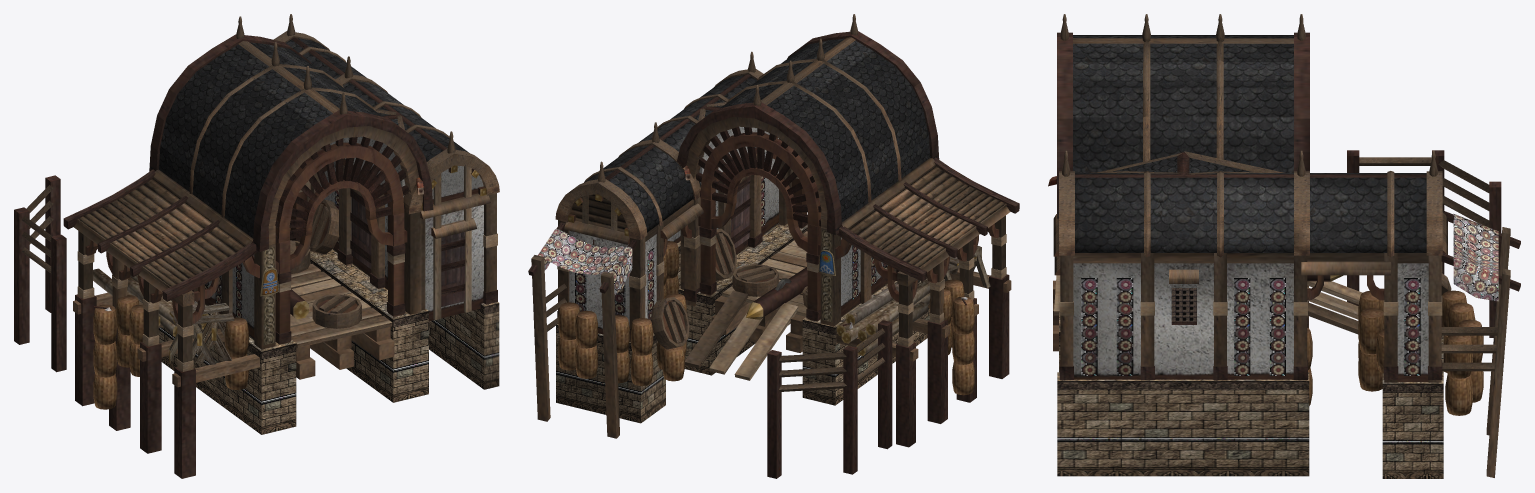
The model's file is maur_workshop.glb.
The picture shows the model from 3 angles, left to right: view 1: azimuth 30°, elevation 25°; view 2: azimuth 150°, elevation 25°; view 3: azimuth 270°, elevation 25°; orthographic projection. The views are drawn at different scales.
Visible parts, largest first — view 1: maur_workshop_part1, maur_workshop_part0; view 2: maur_workshop_part1, maur_workshop_part0; view 3: maur_workshop_part1, maur_workshop_part0.
Boxes of the visible parts, left/top/right/bottom form: maur_workshop_part1: left=14, top=14, right=499, bottom=478; maur_workshop_part0: left=158, top=164, right=499, bottom=434; maur_workshop_part1: left=528, top=14, right=1019, bottom=478; maur_workshop_part0: left=556, top=152, right=929, bottom=423; maur_workshop_part1: left=1048, top=14, right=1520, bottom=477; maur_workshop_part0: left=1057, top=278, right=1443, bottom=478.
Bounding box in the file's own units: 4.47 × 4.25 × 4.6.
Materials: 4 (4 with a texture image).
